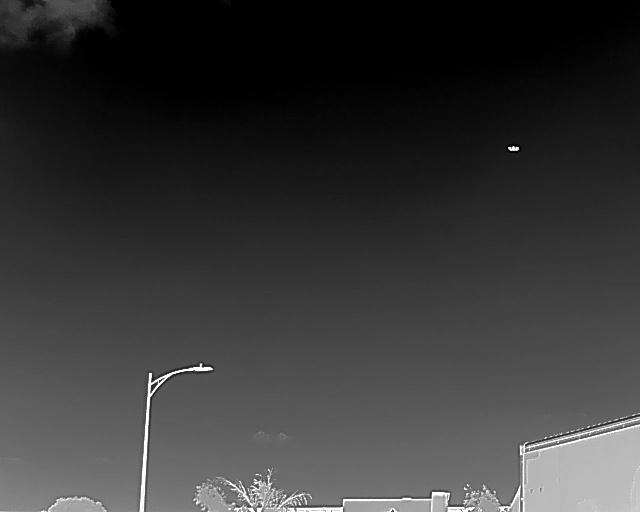fpv-drone: (506, 145, 521, 153)
